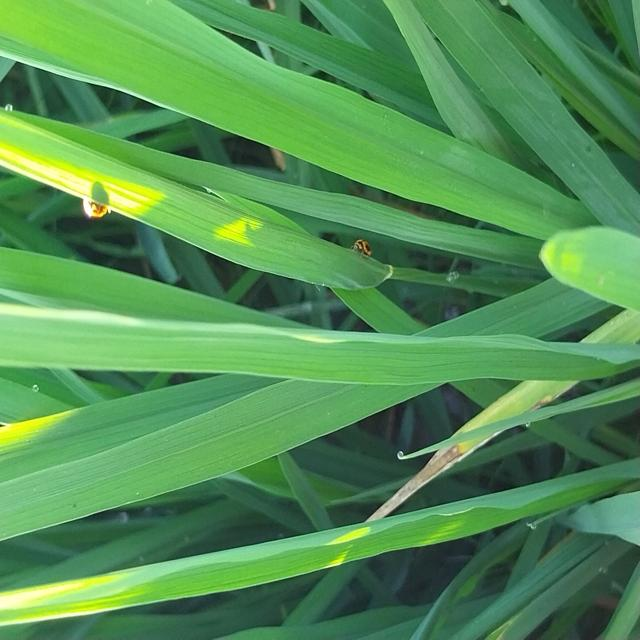Brown spot: (350, 412, 522, 541)
